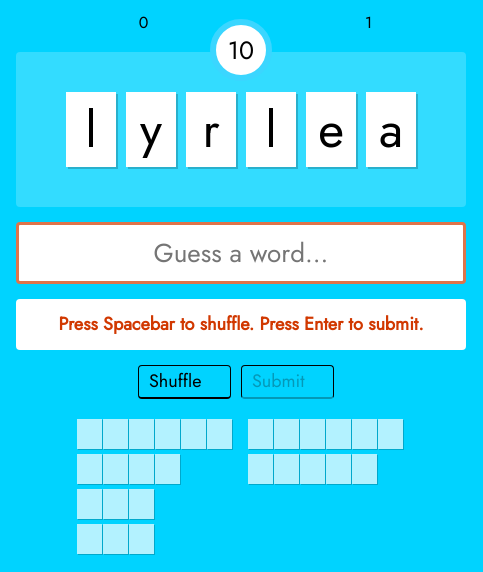
GameContainer component › should display a notification if the user submits an invalid word
The width and height of the screenshot is (483, 572).
Type "lly" into the field labelled "Guess a word..." at (241, 253), box [16, 222, 466, 284]
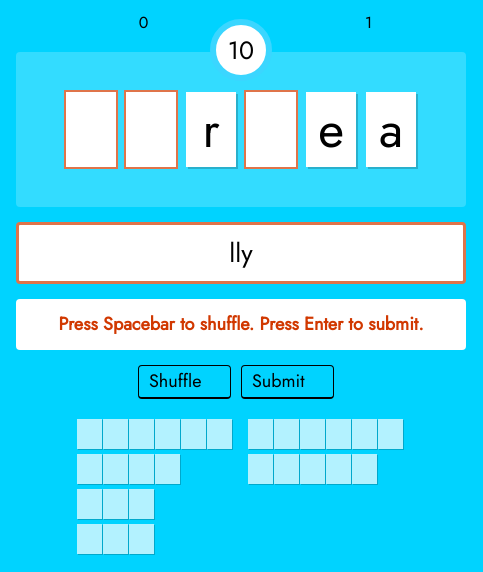
Click the button "Submit" at (287, 382), box [241, 365, 334, 399]
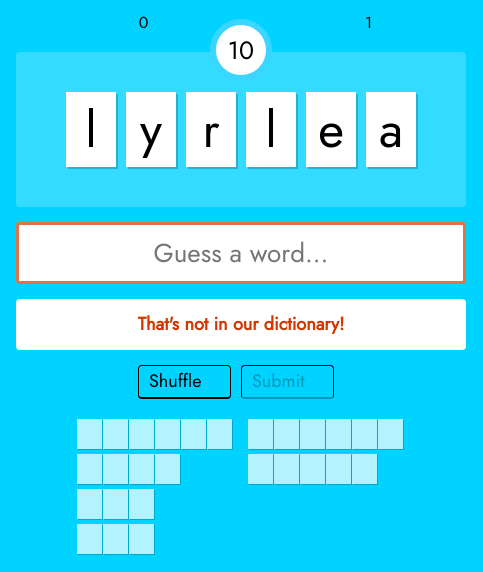
Expected: the text "That's not in our dictionary!" is shown, [16, 299, 466, 350]
